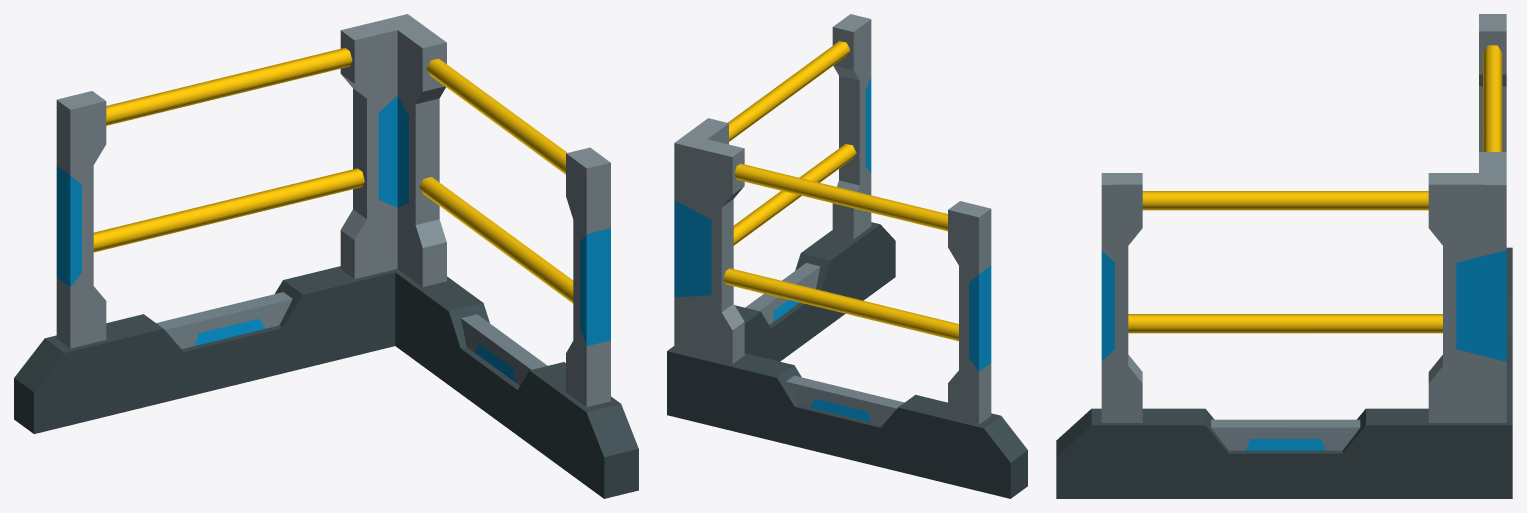
Rendered from Fence_type_C_011.fbx.
3 renders of one model, left to right at view 1: azimuth 30°, elevation 25°; view 2: azimuth 150°, elevation 25°; view 3: azimuth 270°, elevation 25°, orthographic. The views are drawn at different scales.
Visible parts, largest first — view 1: Fence_type_C_011; view 2: Fence_type_C_011; view 3: Fence_type_C_011.
Boxes of the visible parts, x1,y1,x2,y2 form: Fence_type_C_011: [14, 14, 638, 498]; Fence_type_C_011: [667, 14, 1027, 498]; Fence_type_C_011: [1056, 14, 1512, 498].
Size of the model in its own units: 189 by 189 by 142.
